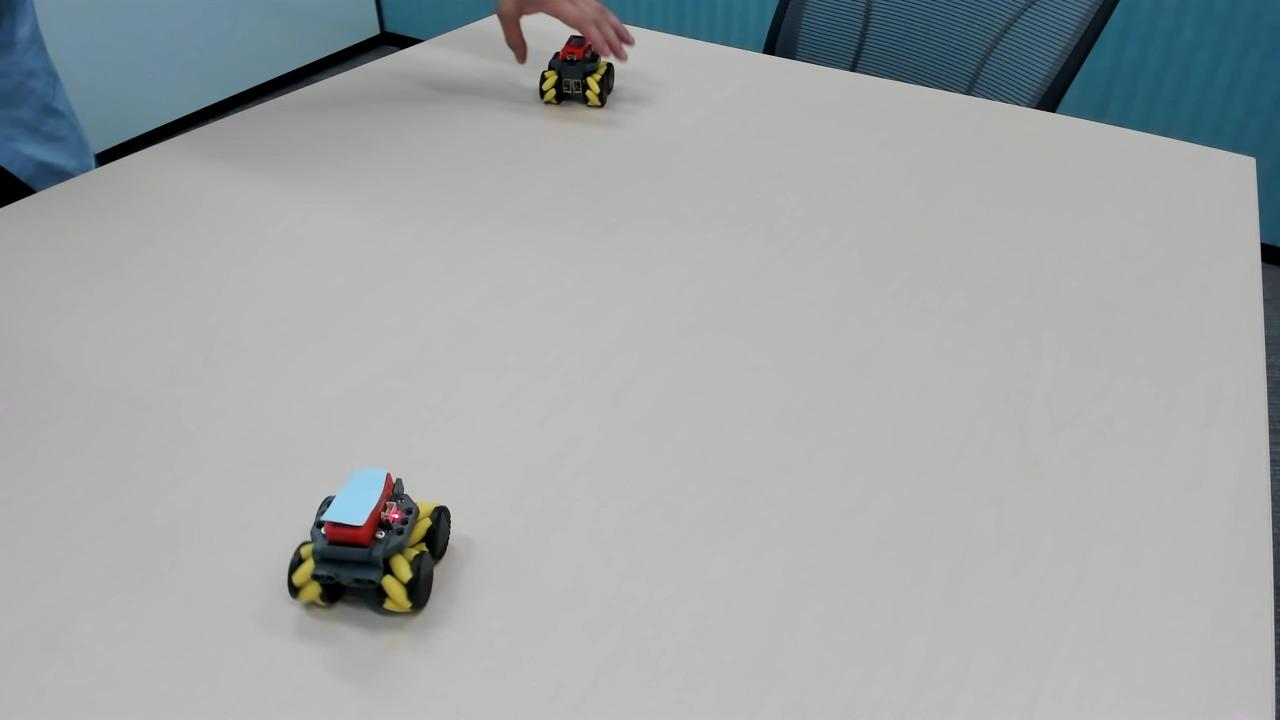B-Robot: (279, 542, 296, 548)
R-Robot: (290, 459, 464, 655), (536, 19, 619, 126)
